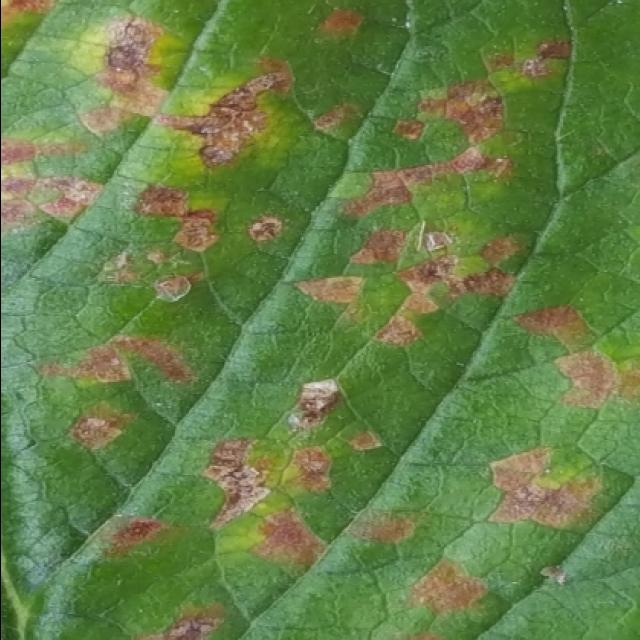Angular Leafspot: (2, 2, 640, 640)
